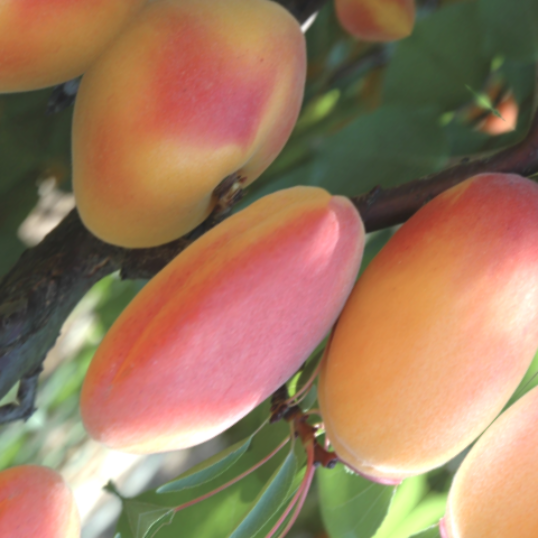mango: (34, 125, 423, 524), (0, 0, 387, 323), (240, 115, 538, 533)
